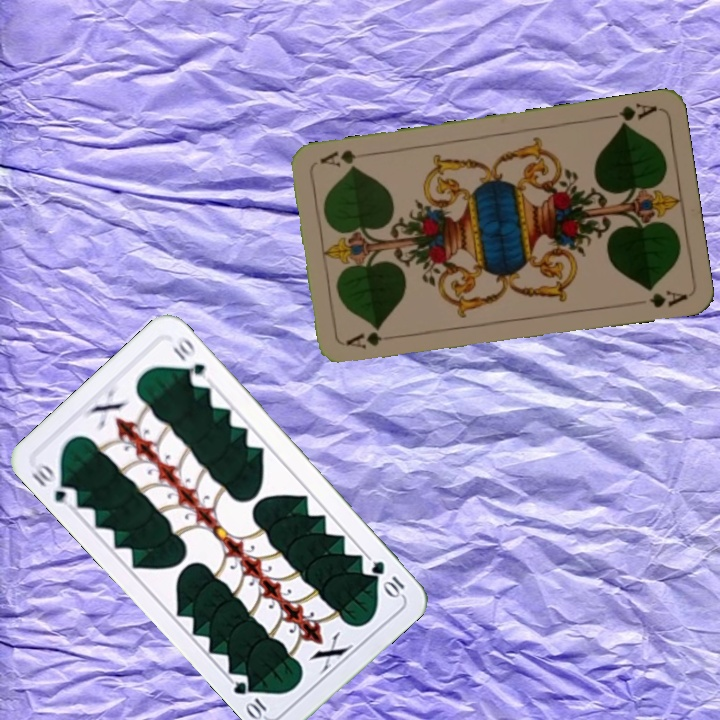G10: (27, 458, 81, 511), (367, 556, 407, 600)
GA: (601, 99, 660, 130), (342, 327, 401, 352)
